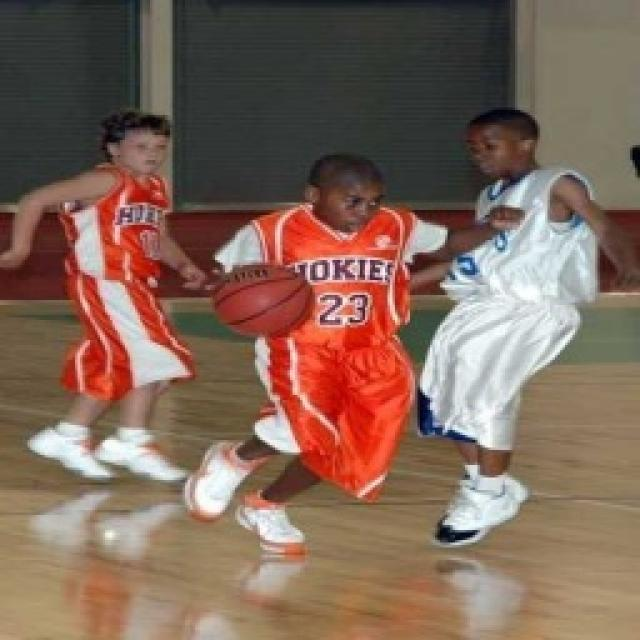rim: (213, 262, 314, 342)
